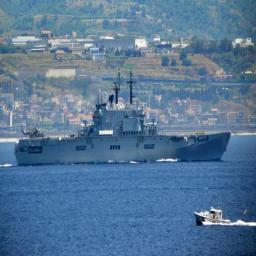Portanaves: (14, 71, 235, 165)
